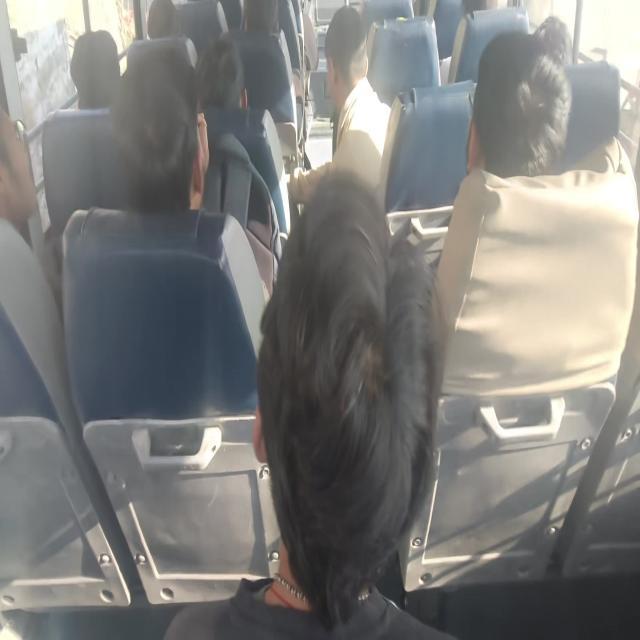person: (163, 167, 455, 638), (61, 38, 266, 422), (432, 16, 637, 393), (286, 5, 392, 208), (109, 40, 209, 211), (222, 0, 298, 163), (0, 104, 39, 244), (69, 28, 121, 110)
